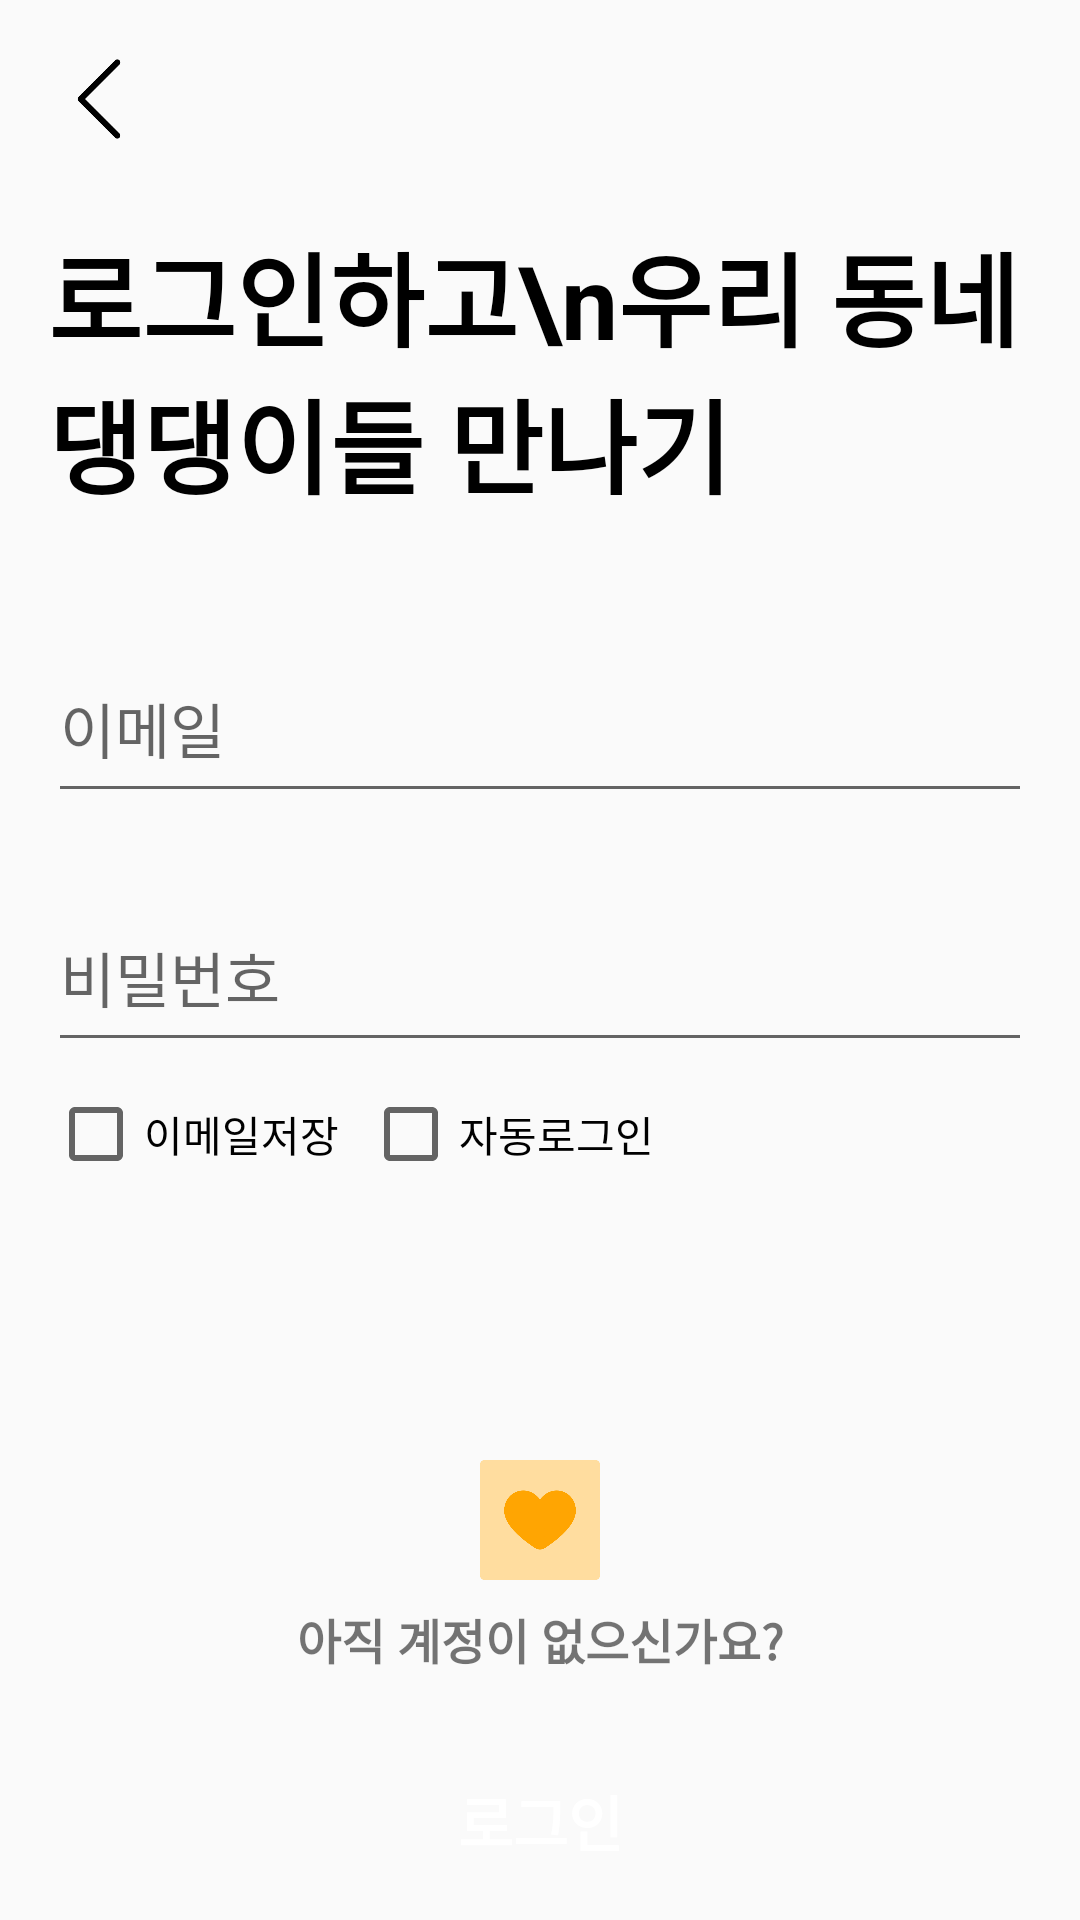

Icon click points for this 1080 x 1920 phone screenshot, format [x,y]:
back: [99,99]
